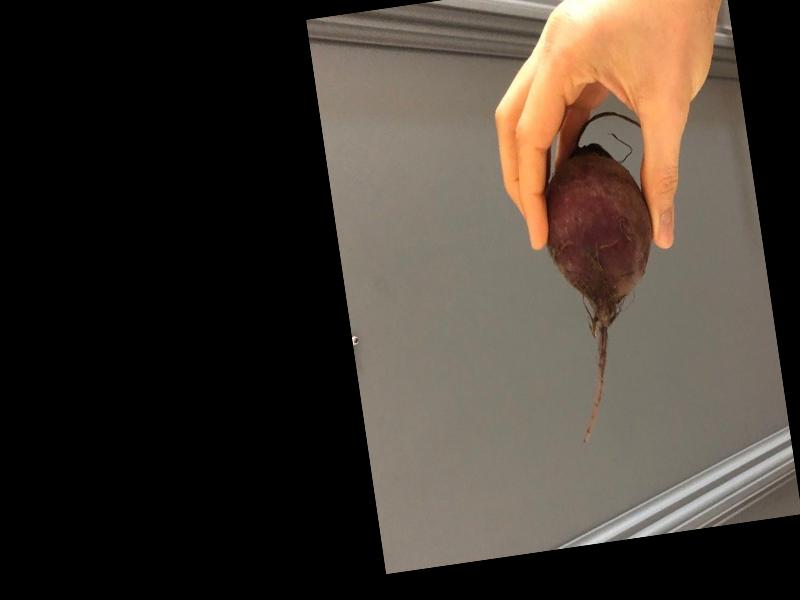Beet: (532, 109, 684, 450)
